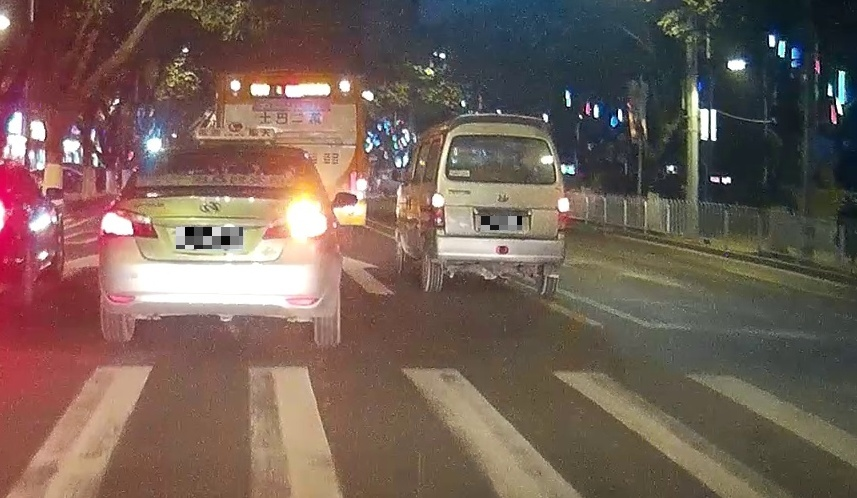L_light: (99, 207, 158, 238), (431, 192, 445, 229)
R_light: (261, 195, 329, 239), (557, 196, 570, 227)
T_light: (205, 151, 241, 157), (495, 131, 515, 137)
night-no: (97, 146, 340, 345), (427, 114, 571, 296)
plate_1: (176, 227, 243, 249)
plate_2: (481, 216, 522, 230)
